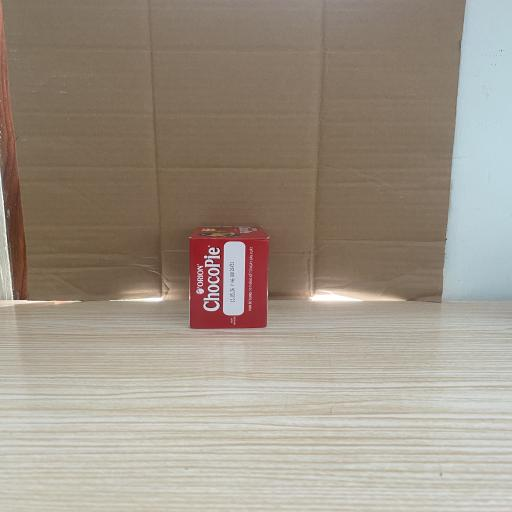chocopie: (189, 226, 269, 329)
